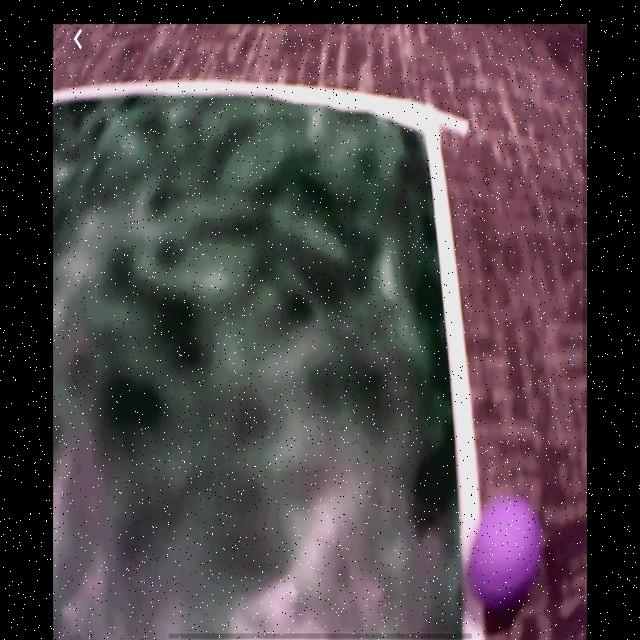ball: (469, 496, 541, 607)
